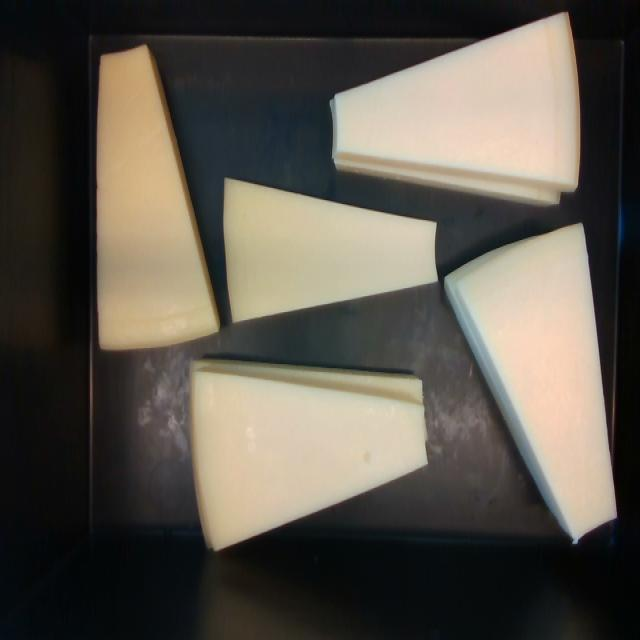Cheese: (450, 225, 616, 540), (191, 376, 430, 549), (333, 15, 576, 184), (99, 45, 217, 345), (224, 180, 436, 320)
